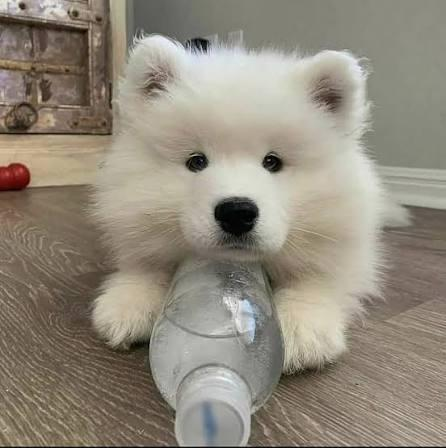puppy-dog: (83, 33, 408, 376)
